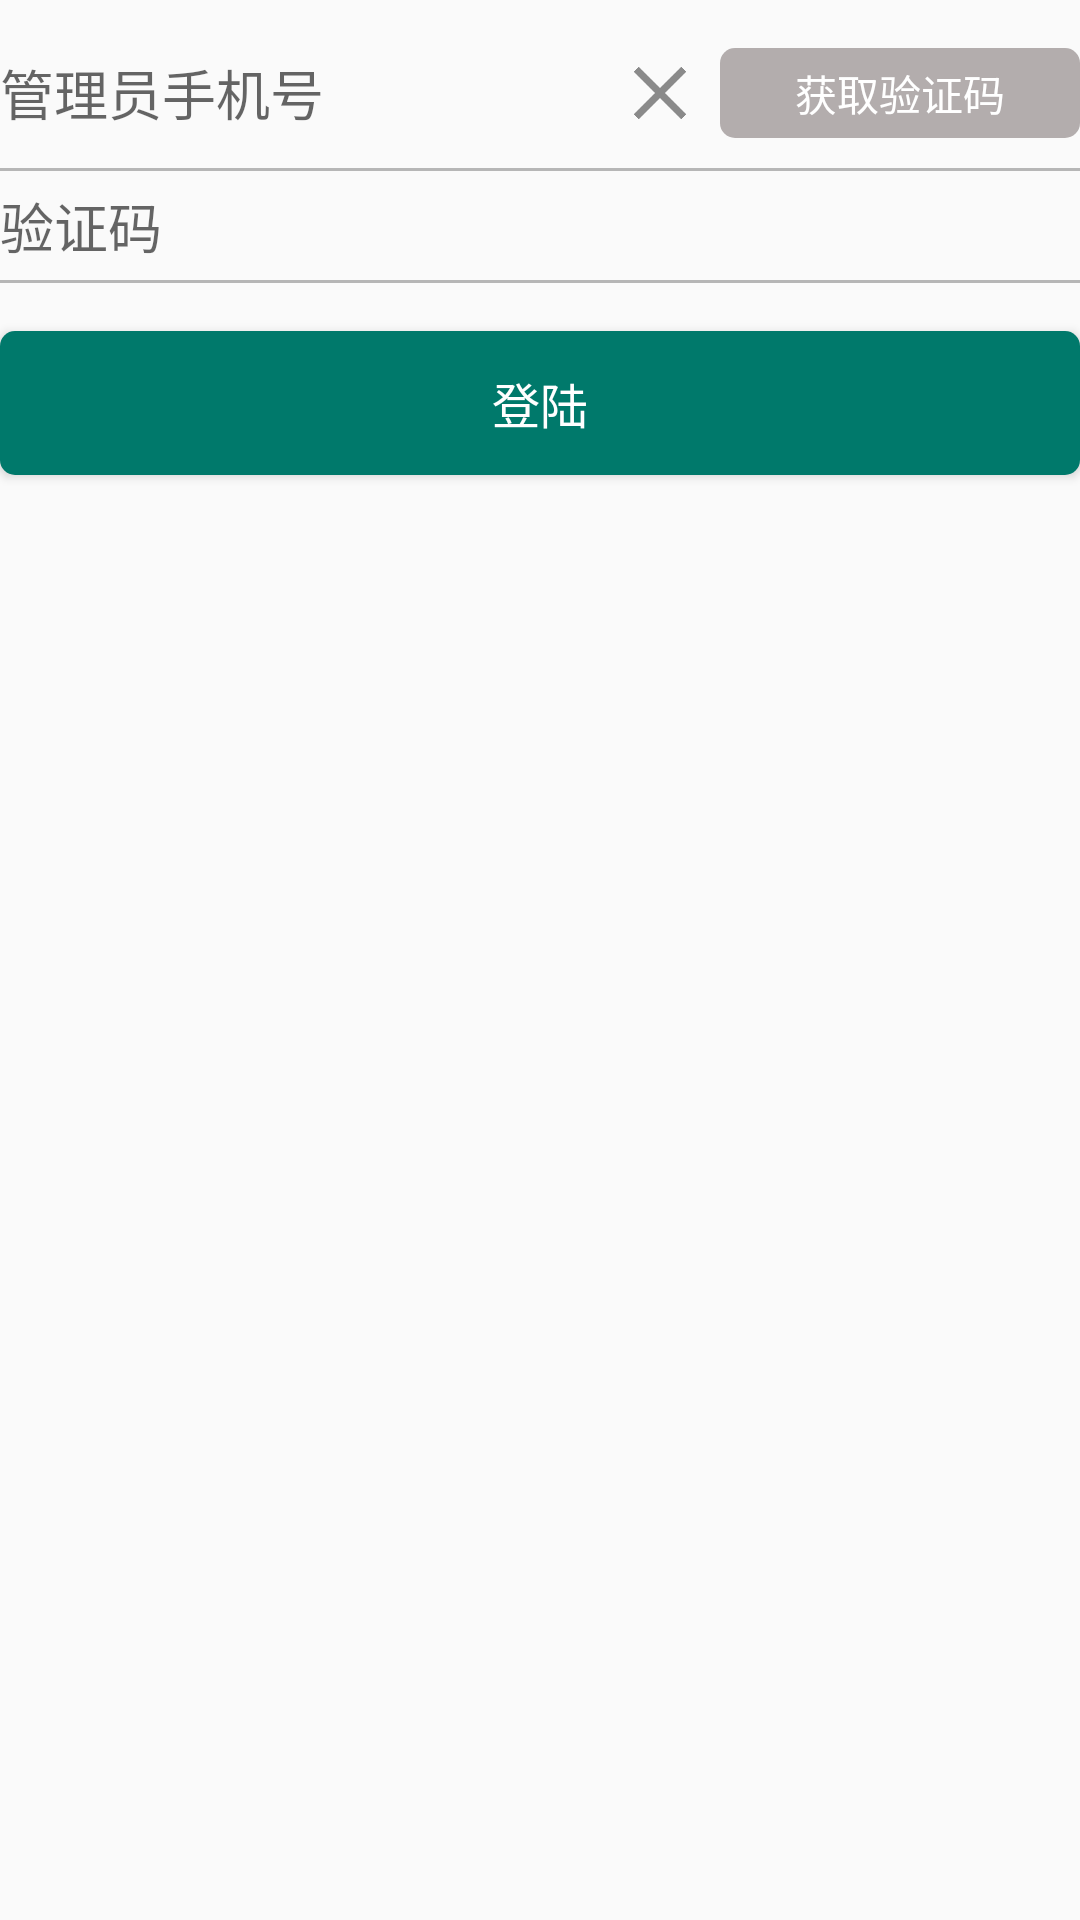

Icon click points for this 1080x1920 phone screenshot, format [x,y]:
delete: [660,93]
